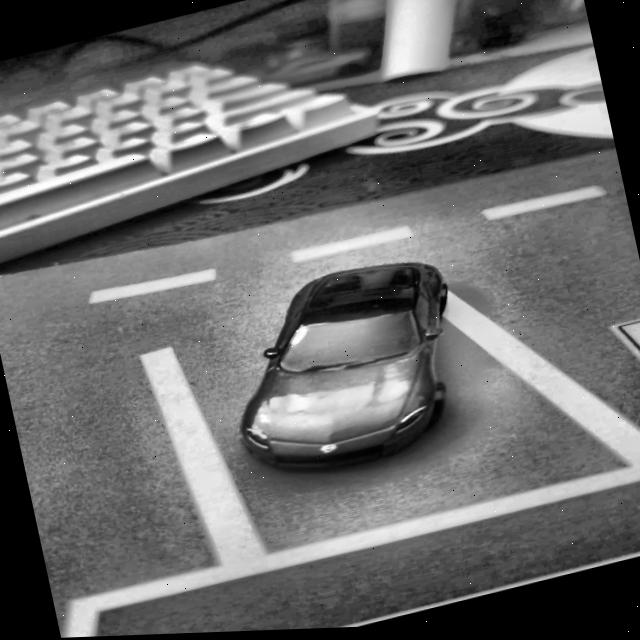car: (212, 248, 481, 493)
